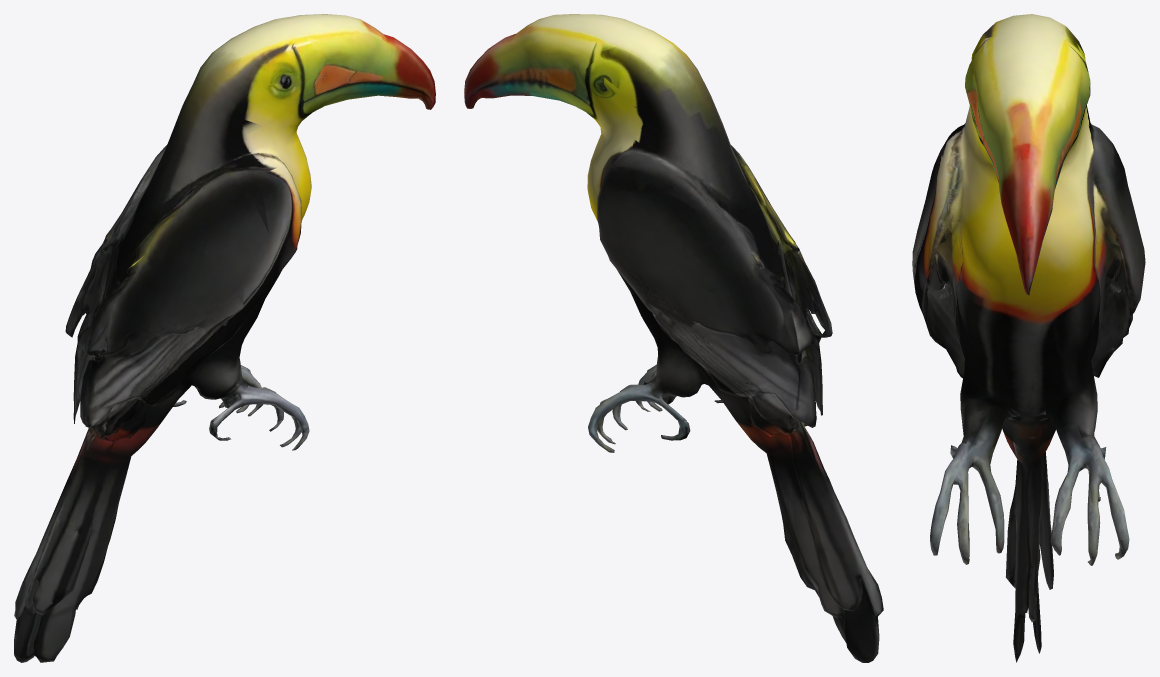
The model's file is sv_toucan.glb.
3 views of the same model, side by side, from view 1: azimuth 30°, elevation 25°; view 2: azimuth 150°, elevation 25°; view 3: azimuth 270°, elevation 25° (orthographic). The views are drawn at different scales.
Parts seen in each view (by area): view 1: sv_toucan; view 2: sv_toucan; view 3: sv_toucan.
Boxes of the visible parts, x1=… form: sv_toucan: x1=14, y1=14, x2=435, y2=662; sv_toucan: x1=464, y1=14, x2=883, y2=662; sv_toucan: x1=912, y1=14, x2=1145, y2=662.
Size of the model in its own units: 0.7577 by 1 by 0.2668.
Materials: 1 (1 with a texture image).
